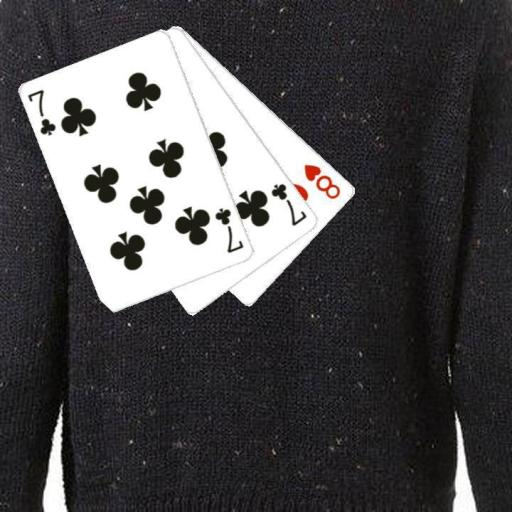card-corner: (268, 180, 309, 227), (24, 86, 58, 137), (212, 204, 245, 254), (302, 161, 342, 201)
